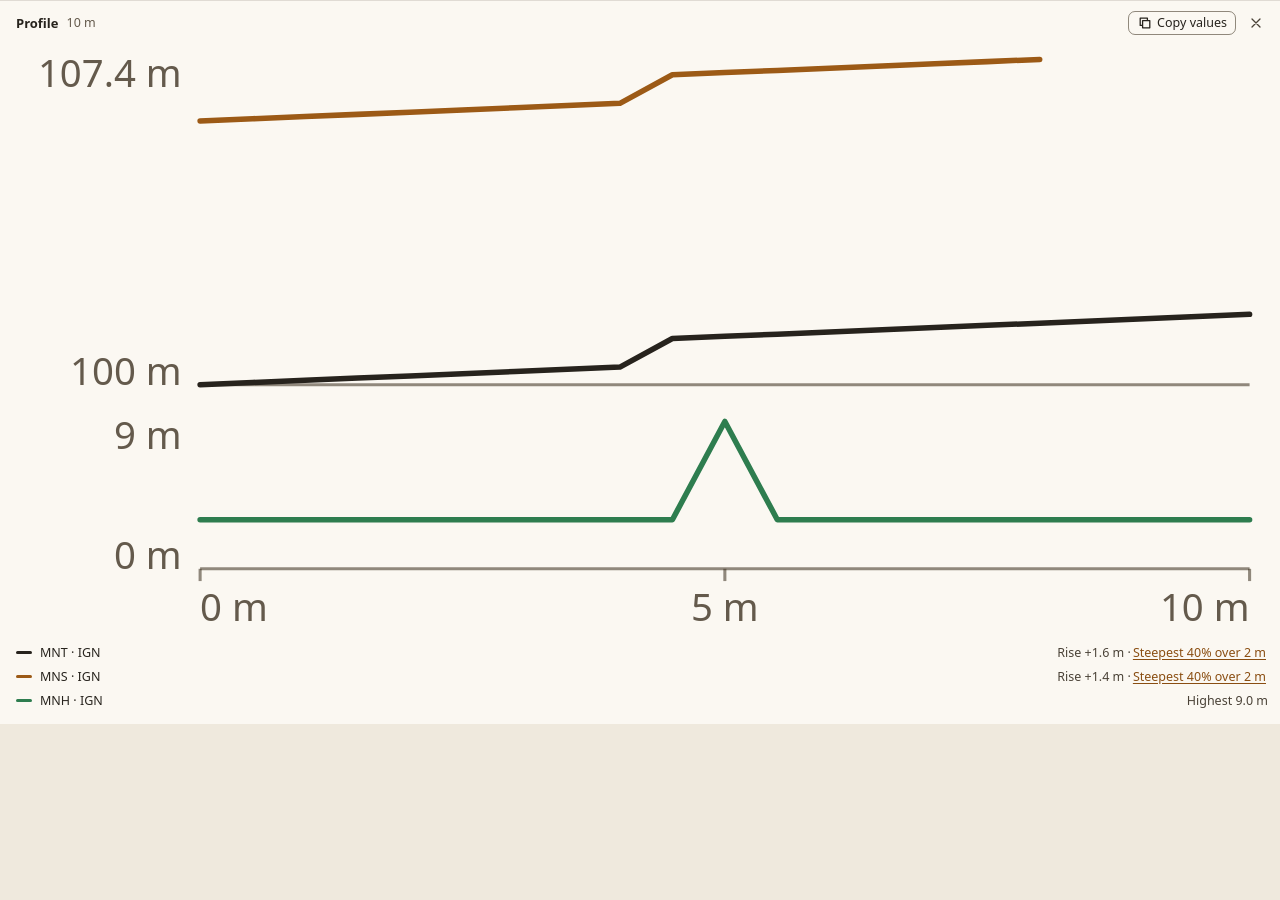
ProfileChart › Steepest moves the cursor and the ring to the steepest spot
The width and height of the screenshot is (1280, 900).
Click the button "Steepest 40% over 2 m" next to "Rise +1.6 m": (1199, 652) [1131,644,1268,661]
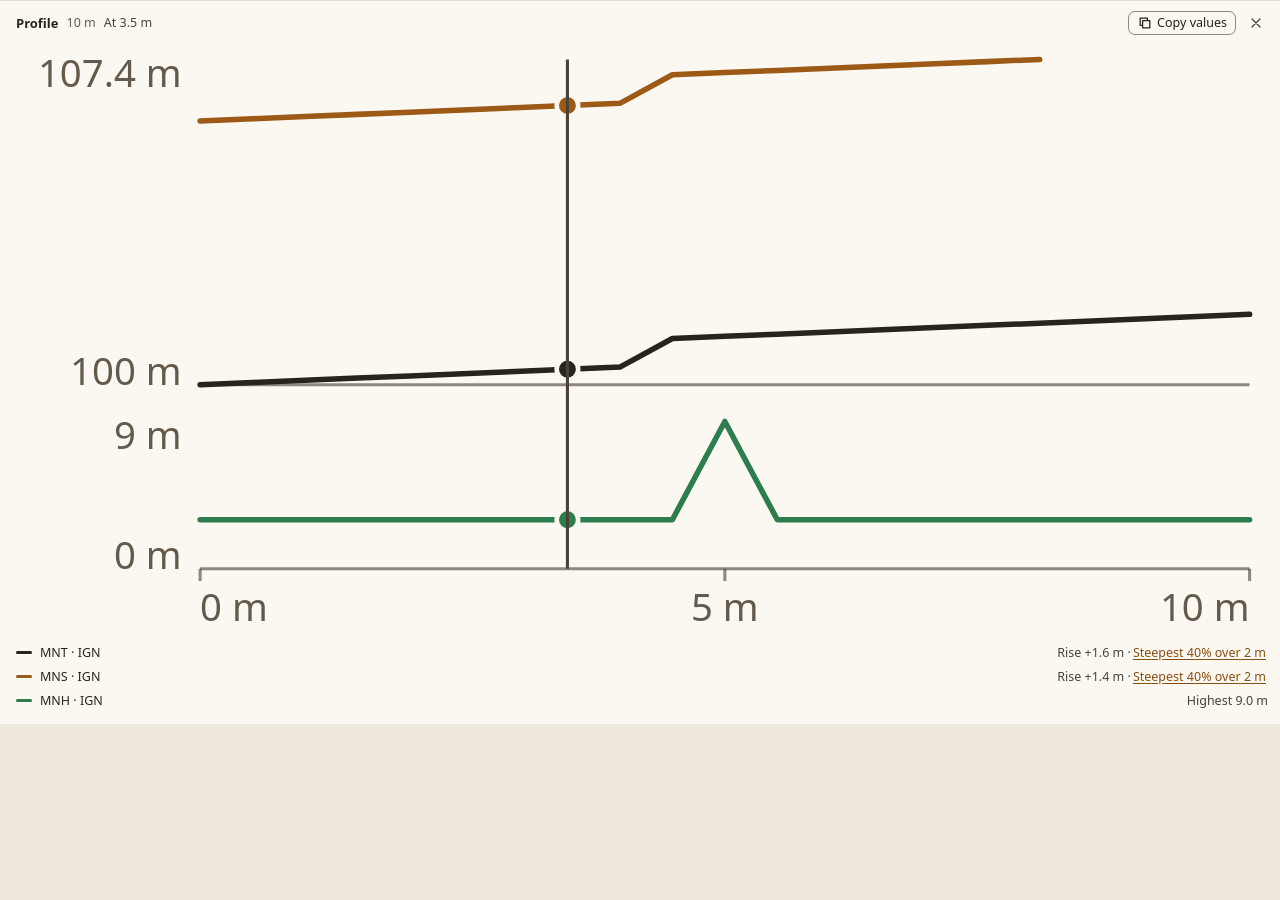
Check: the message "At 3.5 m" is shown, box [104,14,152,31]
